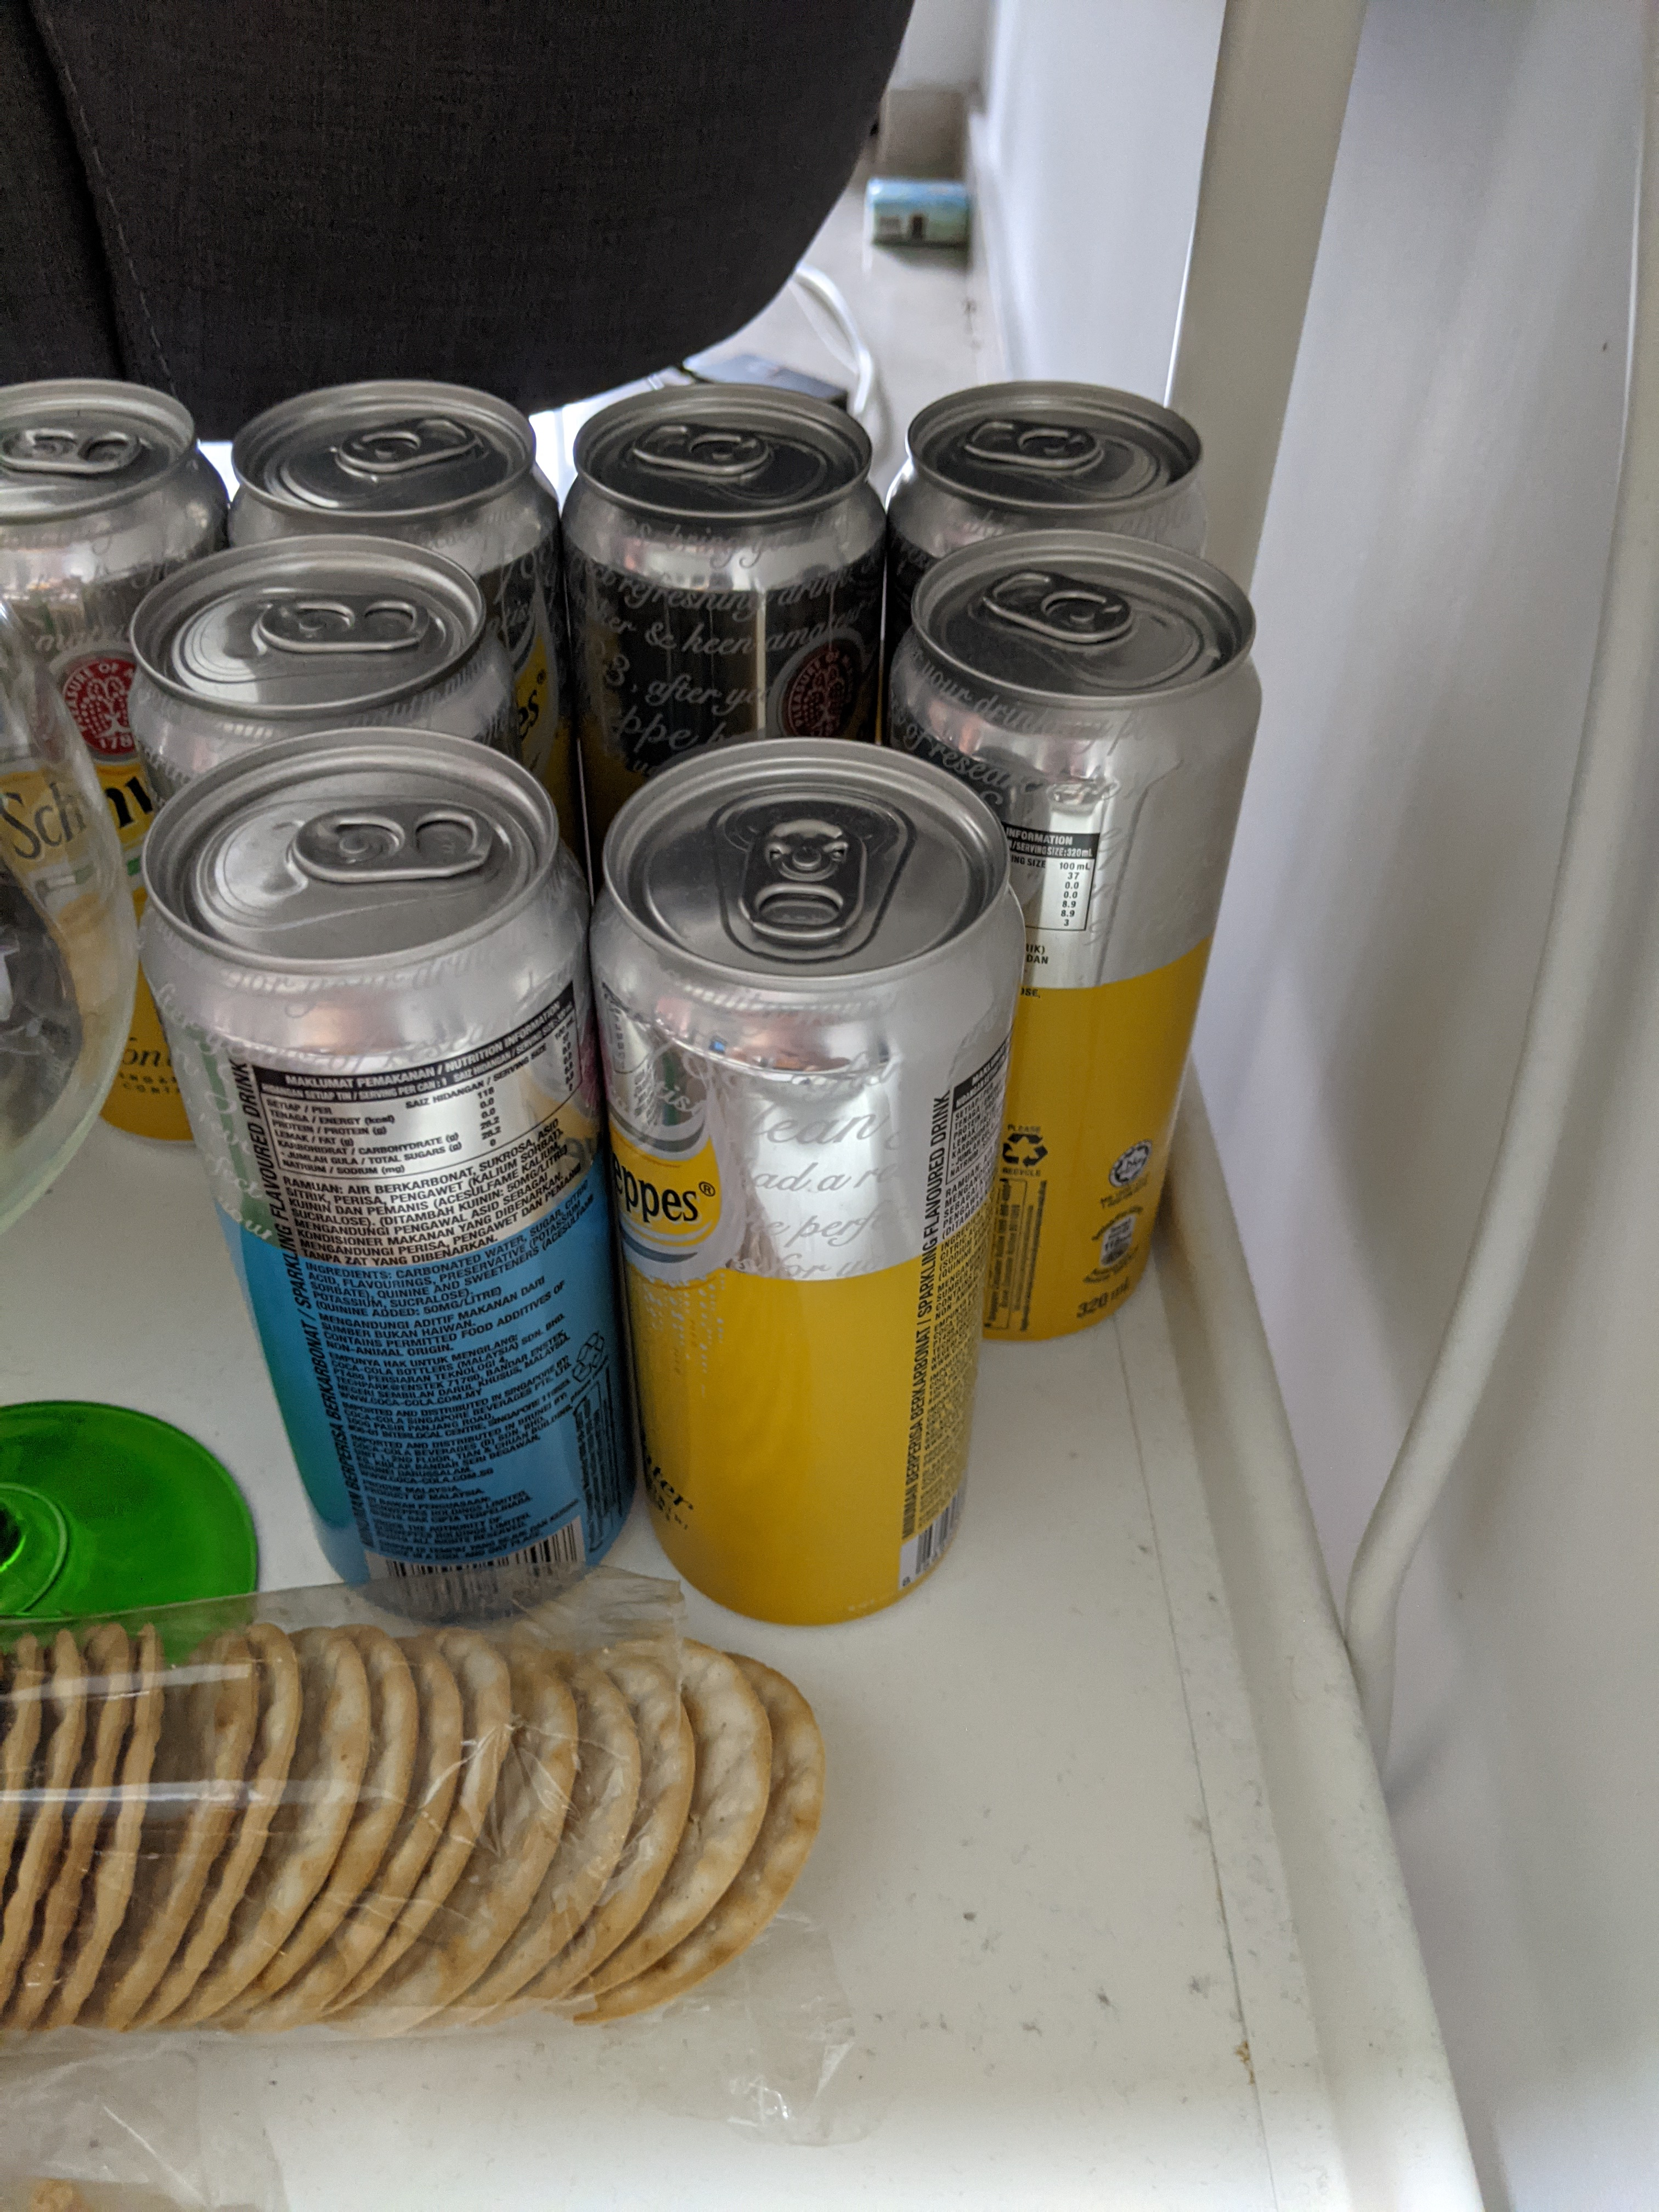schweppes drink can tonic water: (565, 718, 1056, 1655)
